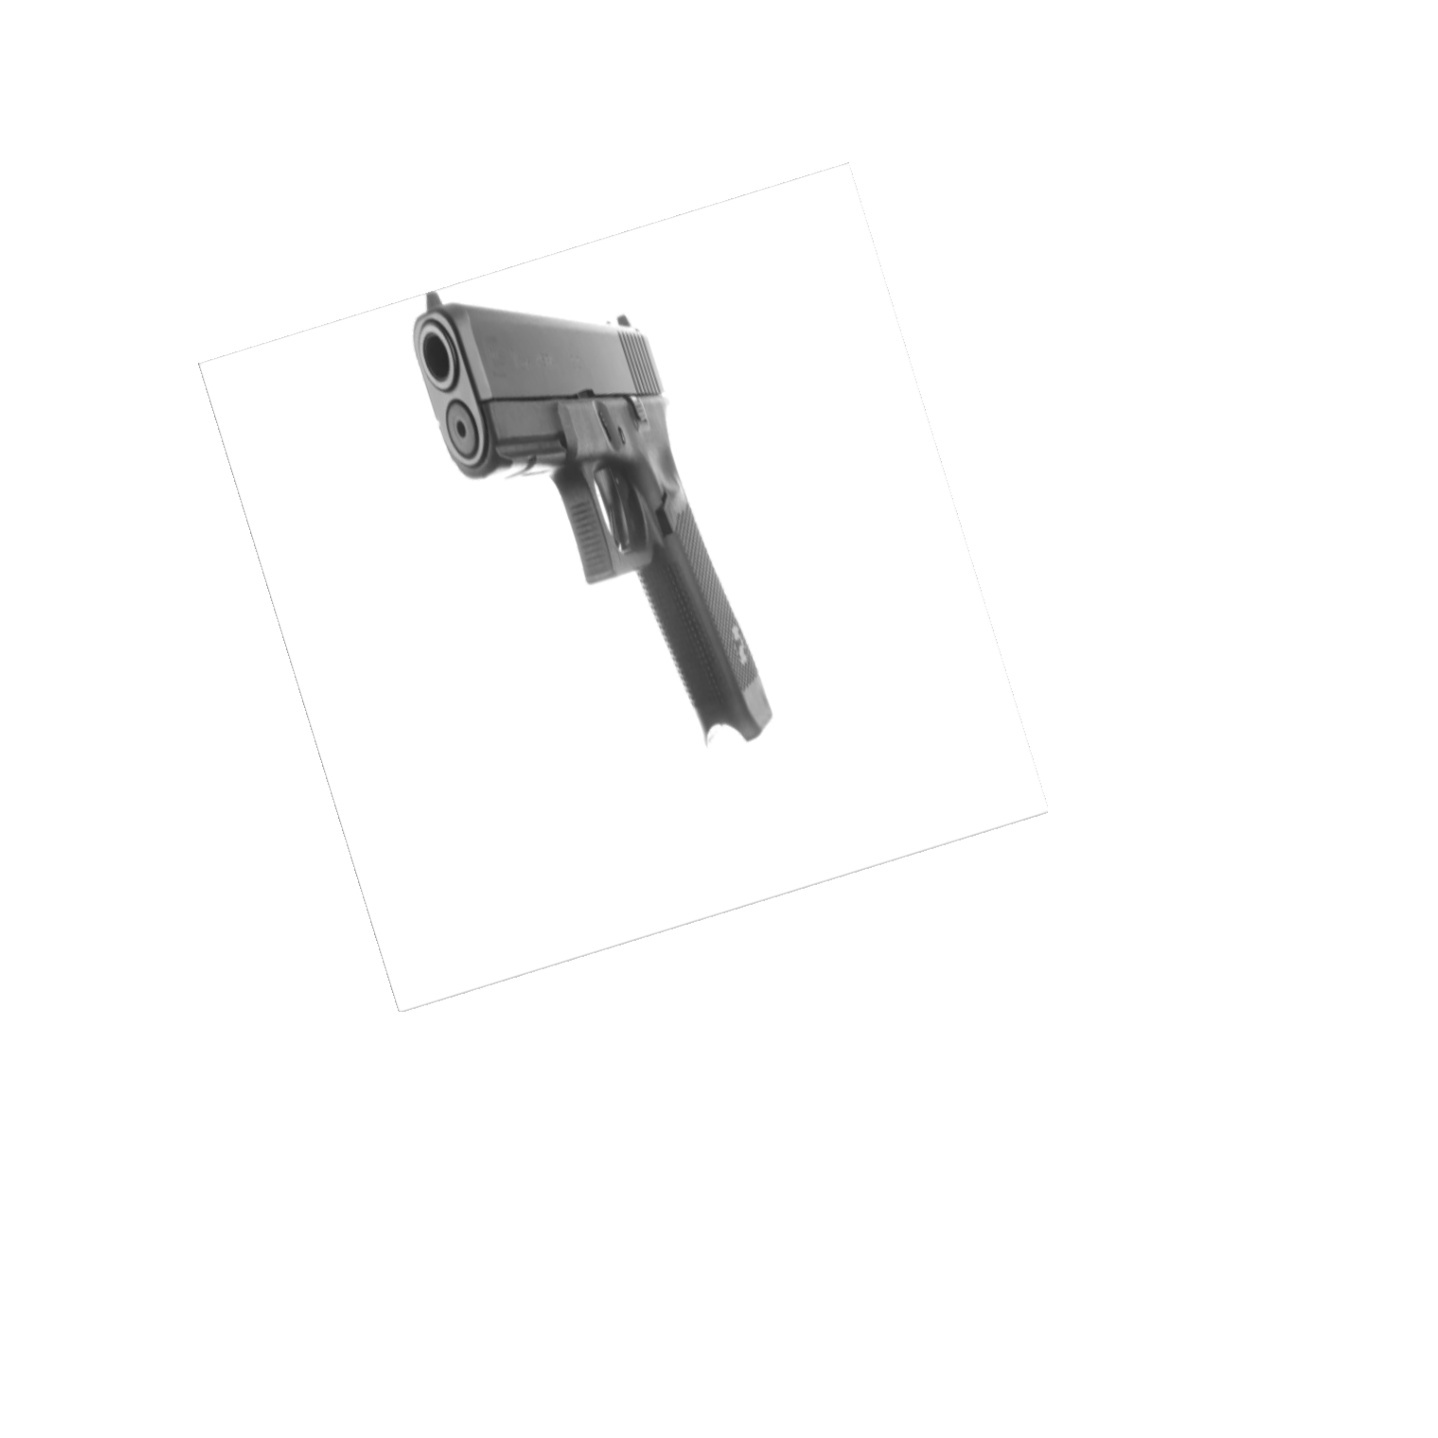gun: (411, 284, 777, 747)
